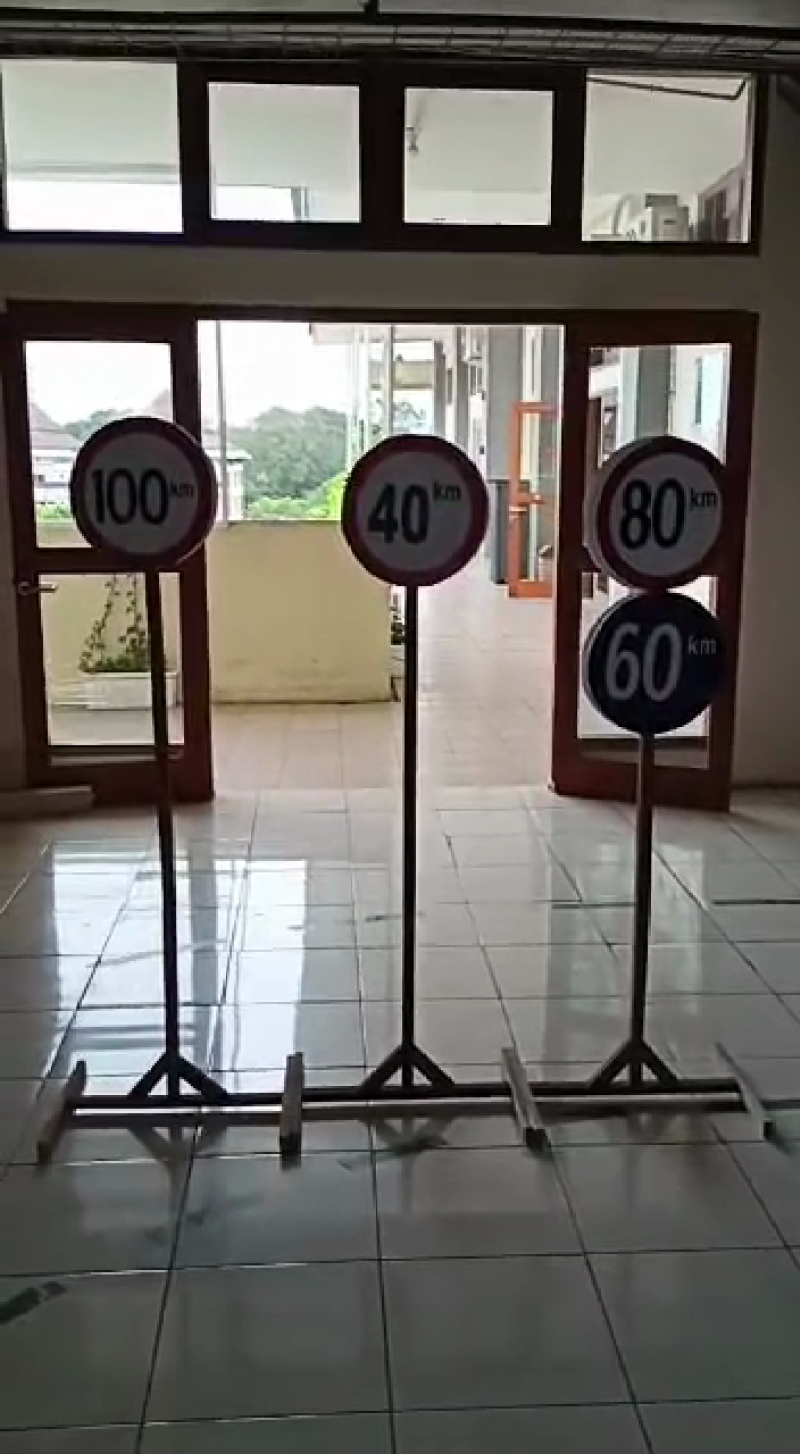batas maksimal 100kmperjam: (66, 409, 220, 587)
batas maksimal 40kmperjam: (331, 431, 494, 598)
batas maksimal 80kmperjam minimal 60kmperjam: (581, 431, 733, 744)
